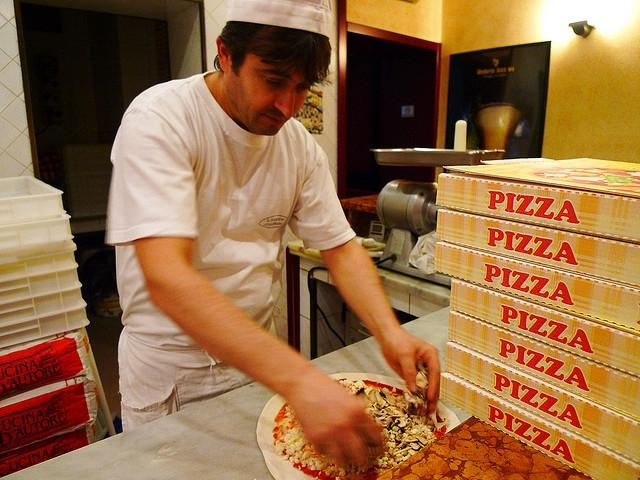mushroom: (379, 387, 397, 406), (404, 393, 418, 408), (374, 391, 386, 408), (396, 396, 409, 409), (415, 434, 429, 446), (394, 417, 408, 427), (368, 389, 378, 402), (409, 440, 421, 450), (396, 439, 408, 449), (402, 435, 418, 442), (386, 416, 395, 428), (412, 395, 424, 404), (356, 385, 364, 395), (374, 409, 386, 415), (408, 448, 417, 456), (396, 434, 404, 442), (417, 371, 426, 378), (392, 426, 402, 432), (426, 419, 434, 426), (422, 415, 427, 425), (386, 458, 394, 464), (392, 448, 399, 454), (401, 450, 408, 456), (431, 428, 436, 434)
